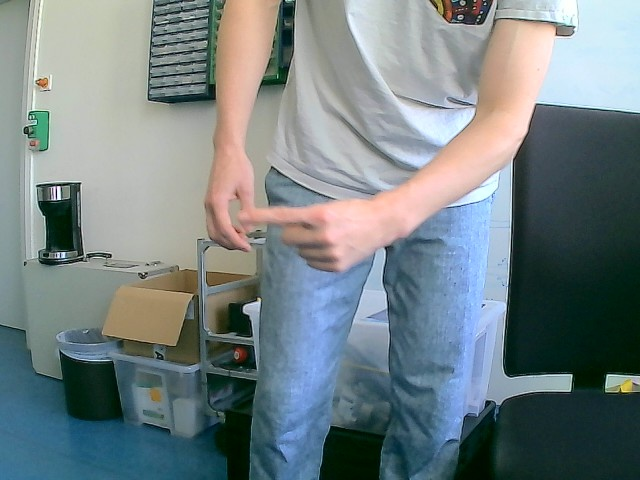no_gesture: (204, 147, 260, 251)
right: (235, 196, 392, 274)
